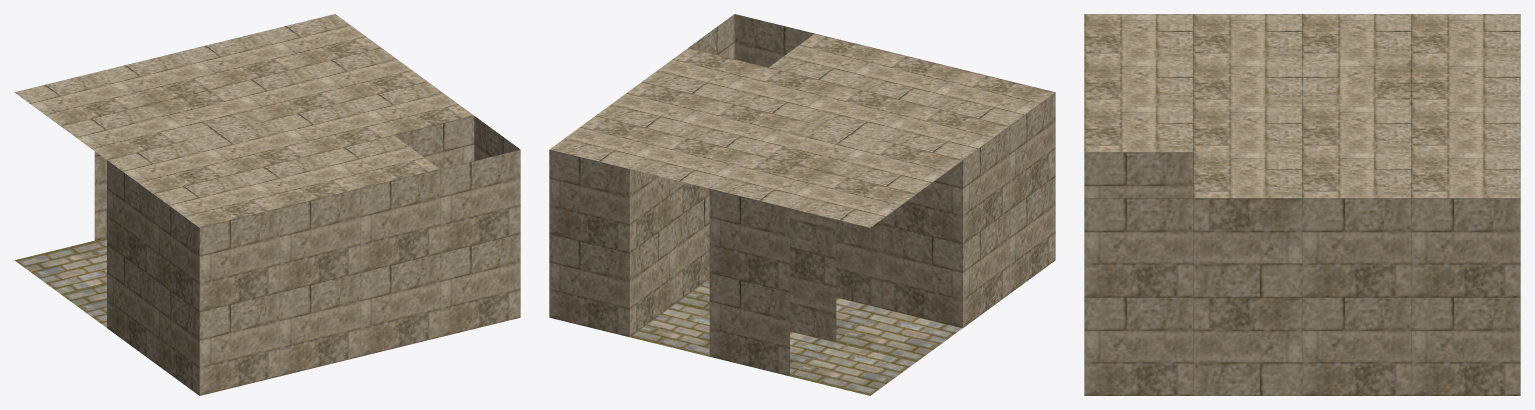
File: dungeon_tiles.glb
3 renders of one model, left to right at view 1: azimuth 30°, elevation 25°; view 2: azimuth 150°, elevation 25°; view 3: azimuth 270°, elevation 25°, orthographic. The views are drawn at different scales.
Parts seen in each view (by area): view 1: Bottom_Left-col, Bottom_Left_Right-col, Full-col, Top_Left_Bottom-col, Left-col, Center-col, Top-col, Bottom-col, Bottom_Right-col, Right-col, Top_Right-col, Top_Right_Bottom-col (+4 smaller); view 2: Top-col, Bottom-col, Top_Right-col, Right-col, Top_Bottom-col, Bottom_Left-col, Left-col, Bottom_Right-col, Center-col, Top_Left-col, Left_Right-col, Top_Left_Right-col (+4 smaller); view 3: Top_Right-col, Top_Right_Bottom-col, Top_Left_Right-col, Full-col, Bottom_Left_Right-col, Top_Bottom-col, Bottom_Right-col, Top-col, Right-col, Top_Left-col, Left_Right-col, Top_Left_Bottom-col (+4 smaller).
Boxes of the visible parts, bbox=[...] form: Bottom_Left-col: bbox=[153, 174, 279, 395]; Bottom_Left_Right-col: bbox=[314, 135, 440, 356]; Full-col: bbox=[394, 116, 520, 336]; Top_Left_Bottom-col: bbox=[234, 155, 360, 376]; Left-col: bbox=[107, 140, 233, 361]; Center-col: bbox=[15, 73, 140, 293]; Top-col: bbox=[94, 53, 220, 249]; Bottom-col: bbox=[61, 106, 186, 327]; Bottom_Right-col: bbox=[221, 67, 347, 120]; Right-col: bbox=[175, 33, 300, 86]; Top_Right-col: bbox=[255, 14, 381, 67]; Top_Right_Bottom-col: bbox=[301, 48, 427, 101]; Top-col: bbox=[709, 155, 835, 376]; Bottom-col: bbox=[836, 140, 962, 361]; Top_Right-col: bbox=[549, 116, 675, 336]; Right-col: bbox=[629, 135, 755, 356]; Top_Bottom-col: bbox=[756, 121, 882, 342]; Bottom_Left-col: bbox=[929, 73, 1055, 293]; Left-col: bbox=[883, 106, 1009, 327]; Bottom_Right-col: bbox=[676, 101, 801, 311]; Center-col: bbox=[790, 174, 916, 395]; Top_Left-col: bbox=[803, 87, 928, 307]; Left_Right-col: bbox=[722, 67, 848, 120]; Top_Left_Right-col: bbox=[642, 48, 768, 101]; Top_Right-col: bbox=[1411, 152, 1520, 395]; Top_Right_Bottom-col: bbox=[1302, 152, 1411, 395]; Top_Left_Right-col: bbox=[1193, 152, 1302, 395]; Full-col: bbox=[1084, 198, 1193, 395]; Bottom_Left_Right-col: bbox=[1084, 106, 1193, 198]; Top_Bottom-col: bbox=[1302, 60, 1411, 106]; Bottom_Right-col: bbox=[1302, 106, 1411, 152]; Top-col: bbox=[1411, 60, 1520, 106]; Right-col: bbox=[1411, 106, 1520, 152]; Top_Left-col: bbox=[1193, 60, 1302, 106]; Left_Right-col: bbox=[1193, 106, 1302, 152]; Top_Left_Bottom-col: bbox=[1084, 60, 1193, 106].
Size of the model in its own units: 4 by 2 by 4.
1 material, 1 textured.
